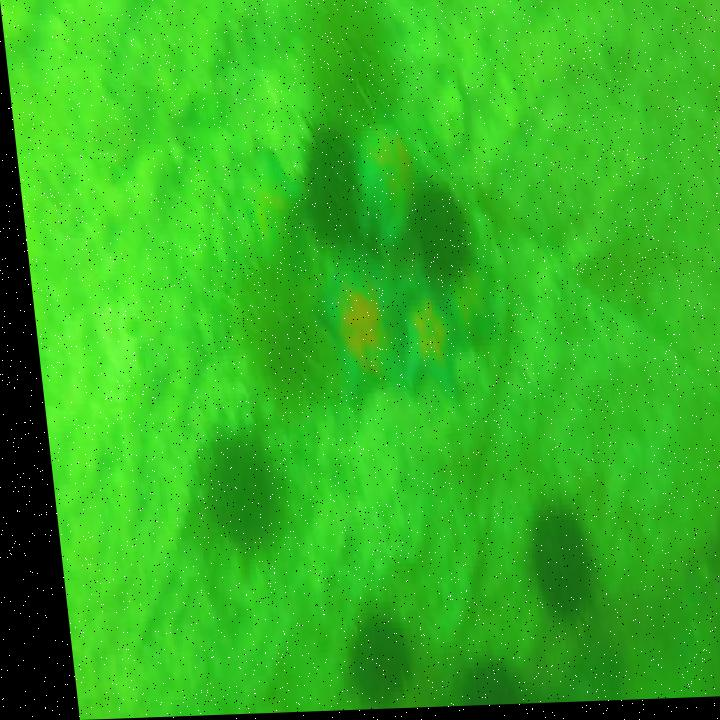echinus: (223, 255, 311, 391), (178, 417, 267, 547), (301, 0, 398, 117), (292, 117, 357, 241), (325, 608, 399, 712), (514, 511, 581, 621), (396, 178, 464, 281), (438, 659, 509, 709)
starfish: (298, 252, 402, 399), (393, 287, 463, 398)
